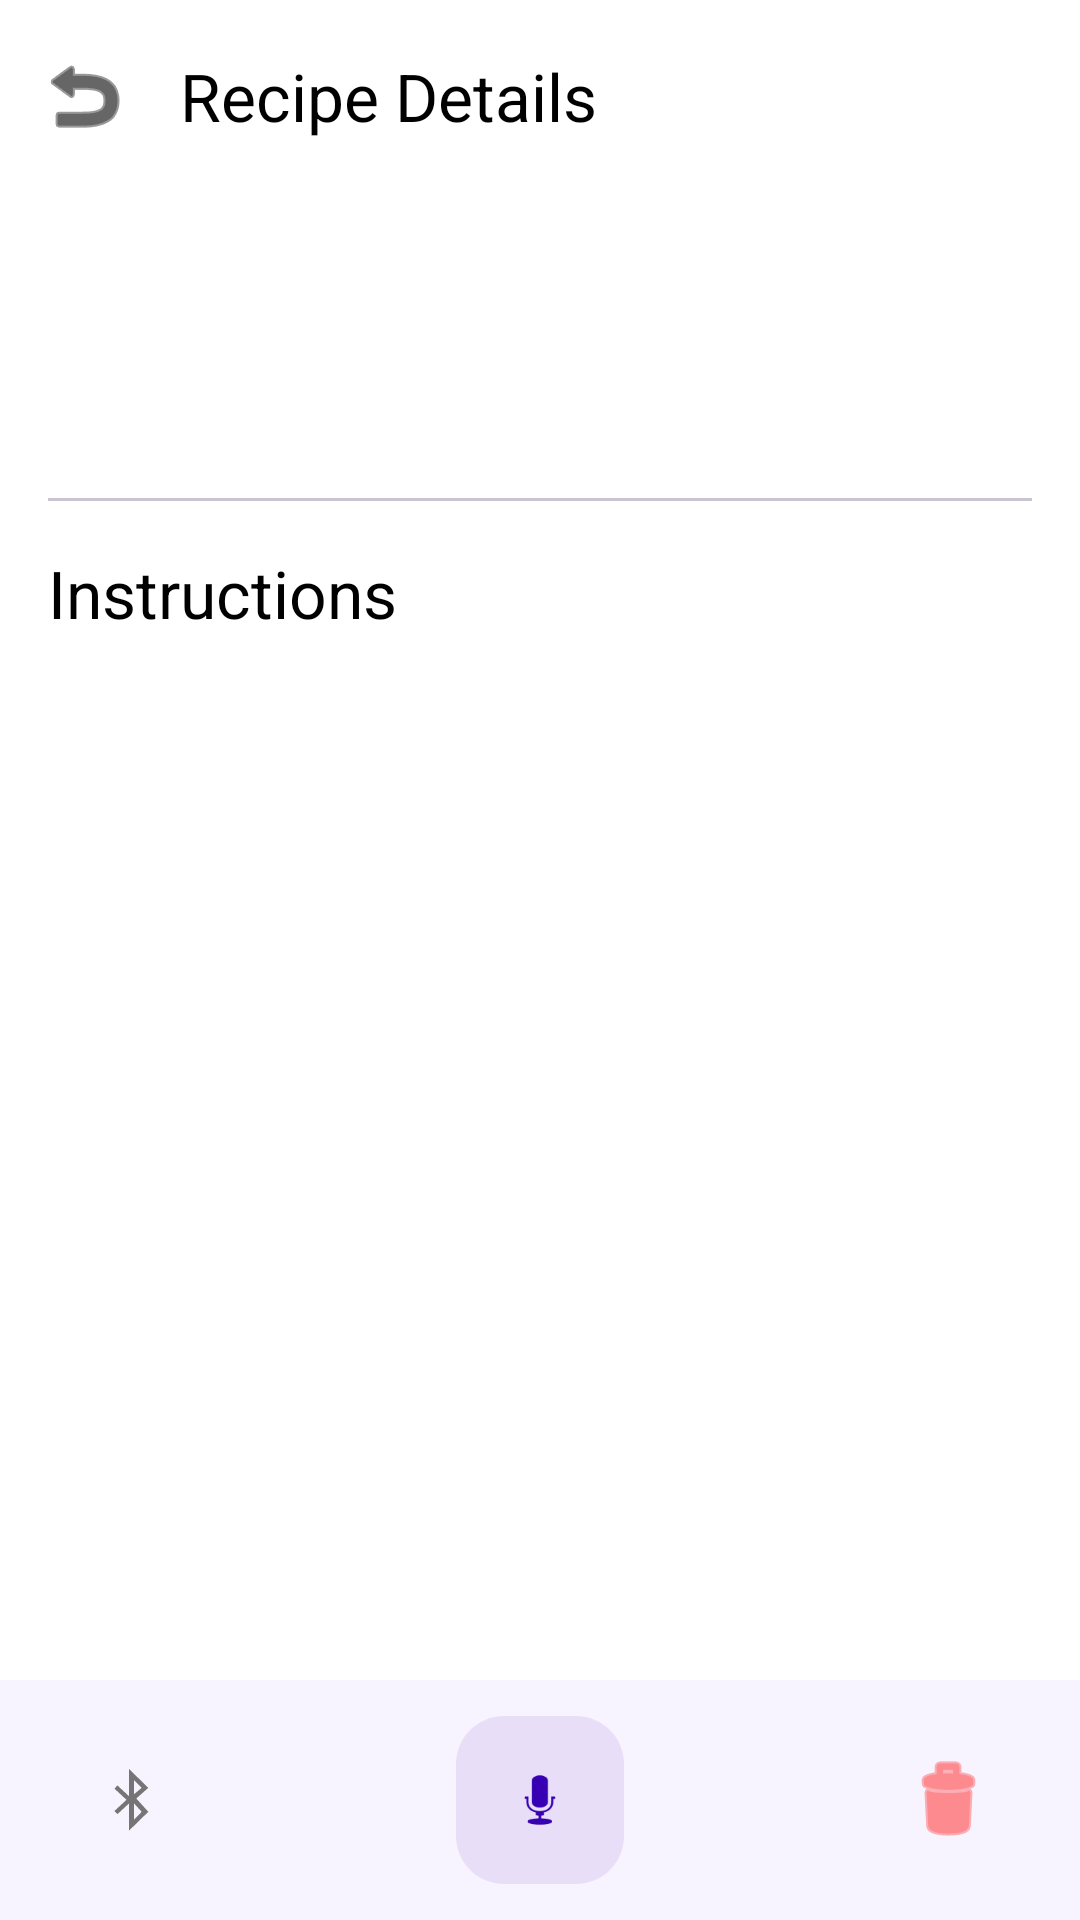

Screen size 1080w x 1920h. Icon name, then its box in pixels as (x1, y1, x2, y2):
Delete: (921, 1761, 976, 1836)
Start Hands-free Mode: (524, 1775, 556, 1825)
